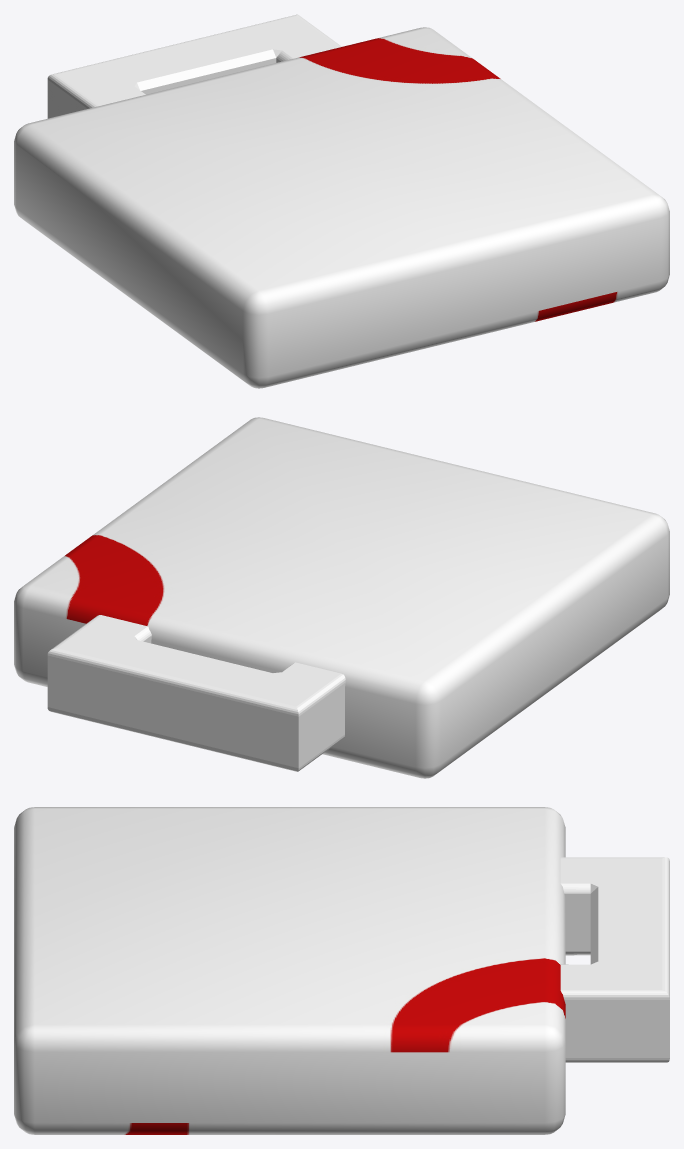
Rendered from Health.FBX.
The picture shows the model from 3 angles, top to bottom: view 1: azimuth 30°, elevation 25°; view 2: azimuth 150°, elevation 25°; view 3: azimuth 270°, elevation 25°; orthographic projection. The views are drawn at different scales.
Parts seen in each view (by area): view 1: ChamferBox03, Box01; view 2: ChamferBox03, Box01; view 3: ChamferBox03, Box01.
Boxes of the visible parts, left/top/right/bottom form: ChamferBox03: left=14, top=27, right=669, bottom=388; Box01: left=47, top=14, right=341, bottom=118; ChamferBox03: left=14, top=417, right=669, bottom=778; Box01: left=47, top=615, right=345, bottom=771; ChamferBox03: left=14, top=807, right=565, bottom=1134; Box01: left=560, top=857, right=669, bottom=1062.
Size of the model in its own units: 72.69 by 15.77 by 86.43.
2 materials, 1 textured.
